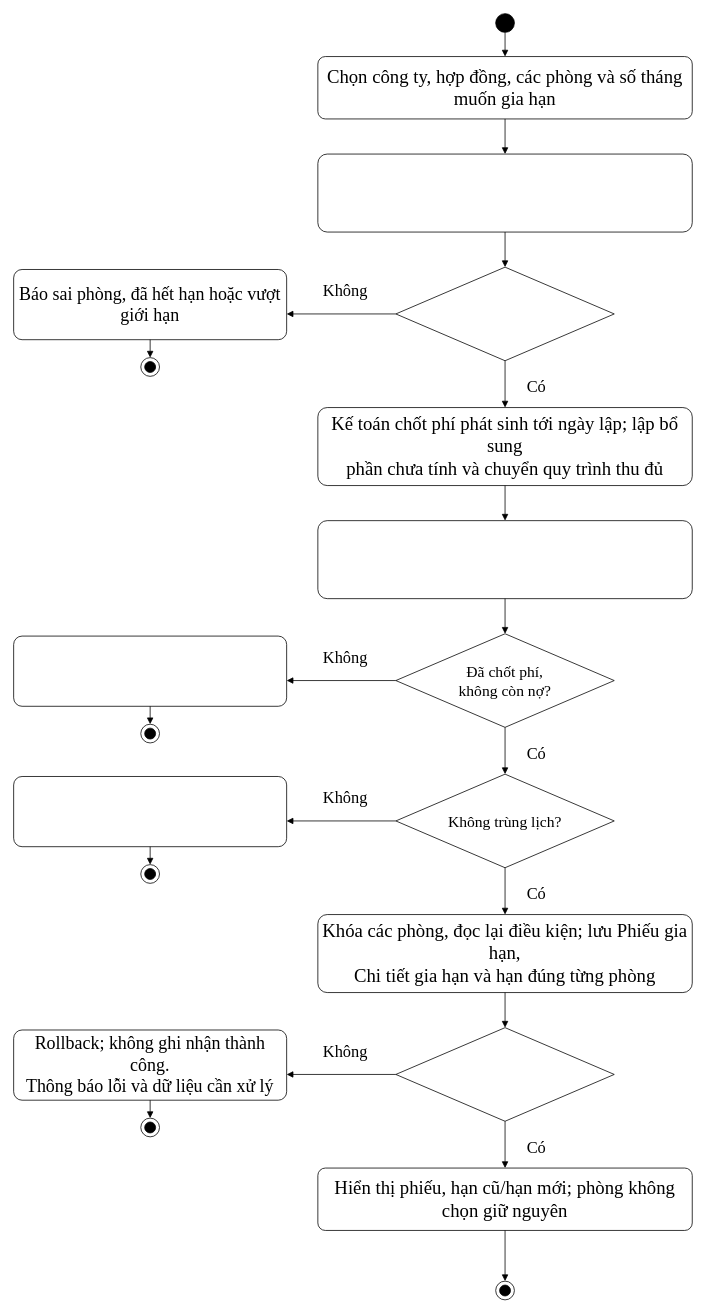
This 706x1314 diagram has some shape labels left out. The shapes that lost their labels are listed below. From the top down, each one's centre as x and y in pixels, then its label:
At (x=504, y=192): "Đọc Hợp đồng, Chi tiết hợp đồng, Văn phòng, hạn hiện tại và lịch thuê tiếp theo".
At (x=504, y=313): "Còn hạn, số tháng ≤ 1/2 kỳ gốc?".
At (x=504, y=559): "Nhận ngày đối chiếu; đọc hóa đơn tiền thuê/dịch vụ và các dòng thuộc hợp đồng".
At (x=150, y=670): "Tạm dừng; liệt kê khoản cần đối chiếu/thanh toán".
At (x=150, y=811): "Từ chối hoặc đổi phòng/thời gian đề nghị".
At (x=504, y=1074): "Giao dịch thành công?".
